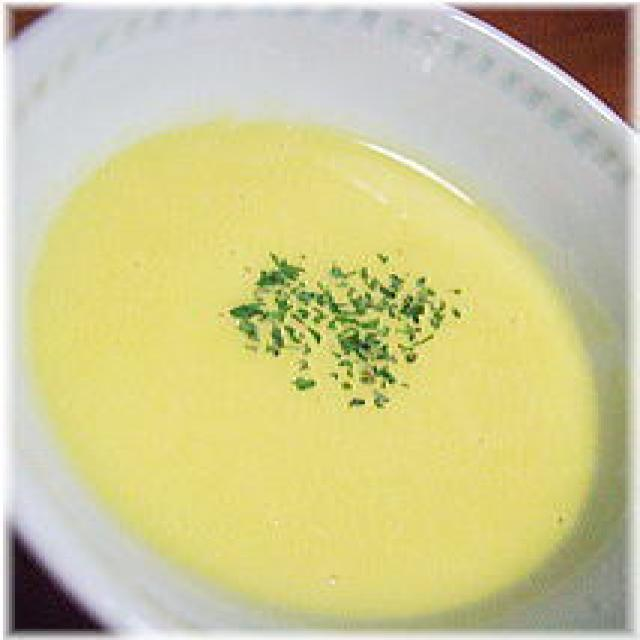汤锅炖物: (15, 11, 610, 622)
